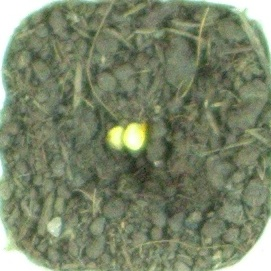pepper seed: (49, 46, 197, 197), (42, 50, 171, 199)
